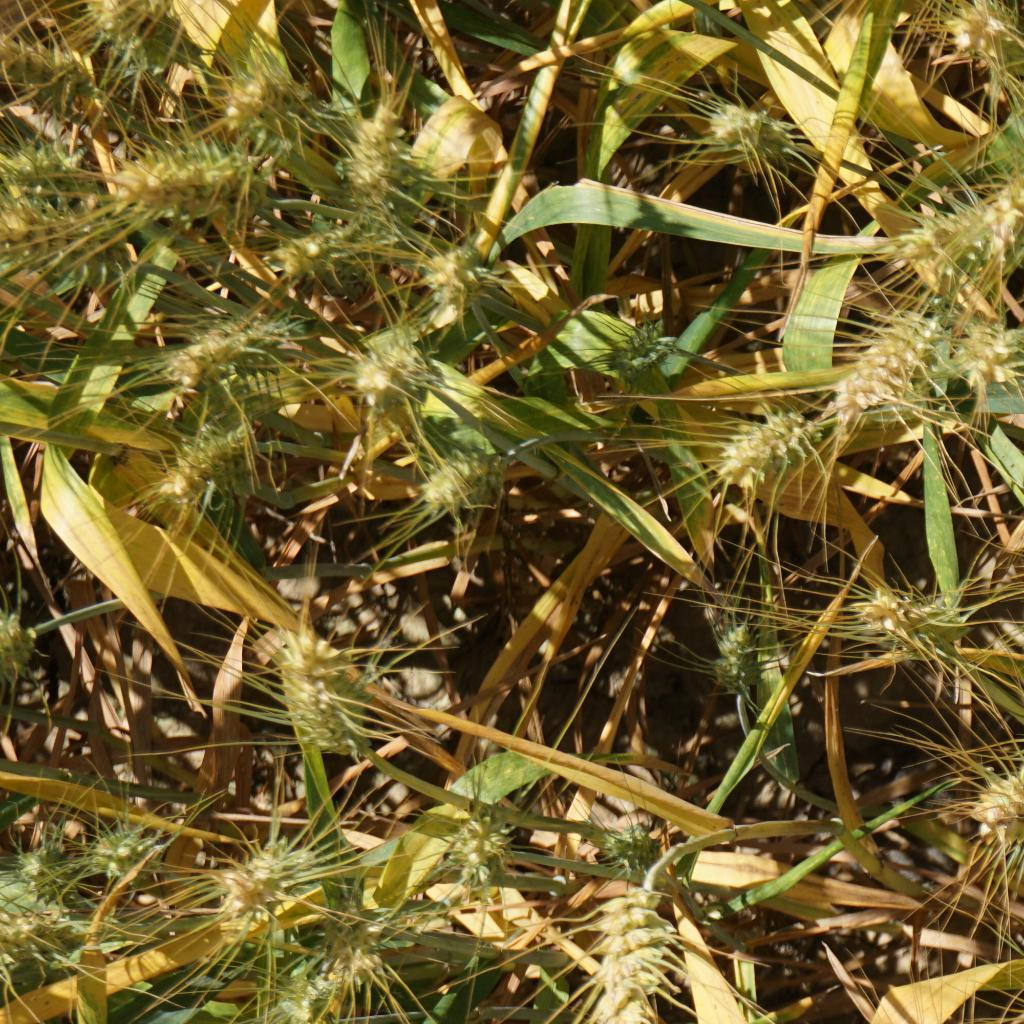0-0: (265, 615, 404, 777), (270, 893, 412, 1024), (564, 875, 667, 1024), (0, 194, 153, 294), (99, 128, 280, 210), (150, 305, 302, 397), (901, 198, 1024, 296), (332, 324, 454, 413), (269, 212, 386, 302), (851, 579, 975, 662), (155, 424, 273, 509), (410, 442, 532, 515), (713, 398, 813, 487), (840, 314, 926, 414), (218, 832, 314, 921), (338, 110, 430, 201), (0, 29, 108, 105), (209, 52, 308, 131), (593, 309, 677, 399), (954, 751, 1024, 856), (454, 798, 522, 899), (930, 0, 1024, 73), (72, 816, 169, 881), (421, 233, 491, 322), (596, 813, 681, 878), (704, 102, 792, 164), (951, 314, 1024, 388), (709, 612, 763, 701), (10, 834, 76, 900), (0, 144, 82, 197), (0, 905, 64, 971), (974, 171, 1024, 248), (91, 0, 158, 49), (204, 1009, 272, 1024)
